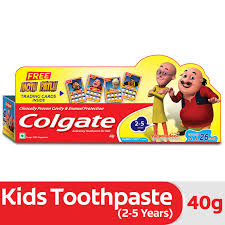colgate-small: (3, 97, 217, 143)
